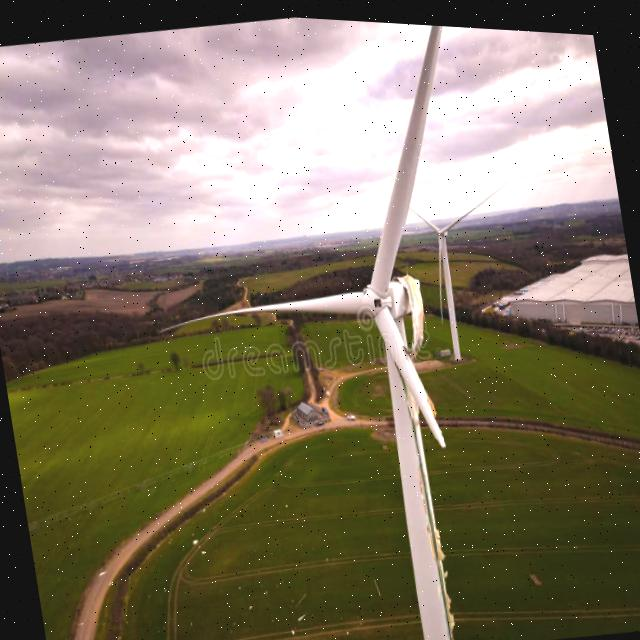damaged-blade: (375, 302, 446, 443), (375, 303, 446, 443), (400, 269, 424, 351)
solid-blade: (161, 286, 364, 330)
wind-turbine: (410, 176, 506, 355)
